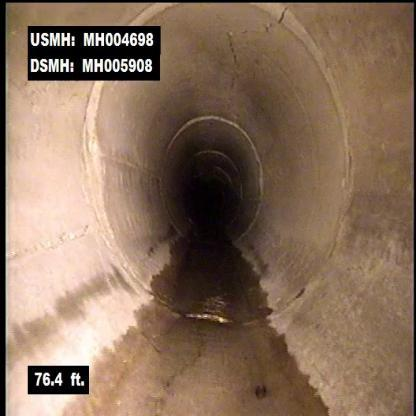crack: (154, 331, 220, 401), (16, 216, 102, 264), (216, 23, 250, 82), (259, 9, 311, 40)
